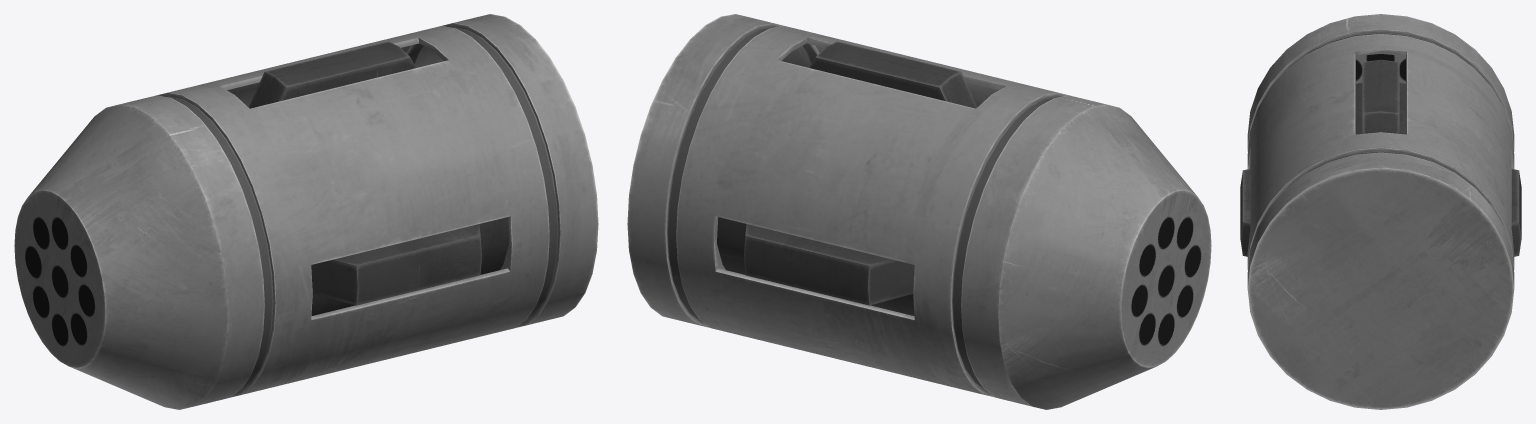
File: pommel_7_c_a.glb
3 views of the same model, side by side, from view 1: azimuth 30°, elevation 25°; view 2: azimuth 150°, elevation 25°; view 3: azimuth 270°, elevation 25° (orthographic). The views are drawn at different scales.
Parts seen in each view (by area): view 1: pommel_7_c_a_lod0; view 2: pommel_7_c_a_lod0; view 3: pommel_7_c_a_lod0.
Part boxes in pixels (bbox=[...]): pommel_7_c_a_lod0: bbox=[14, 14, 598, 409]; pommel_7_c_a_lod0: bbox=[627, 14, 1211, 409]; pommel_7_c_a_lod0: bbox=[1240, 14, 1521, 409].
Size of what is drawn, in the model's own units: 0.0492 by 0.0305 by 0.0305.
Materials: 1 (1 with a texture image).
